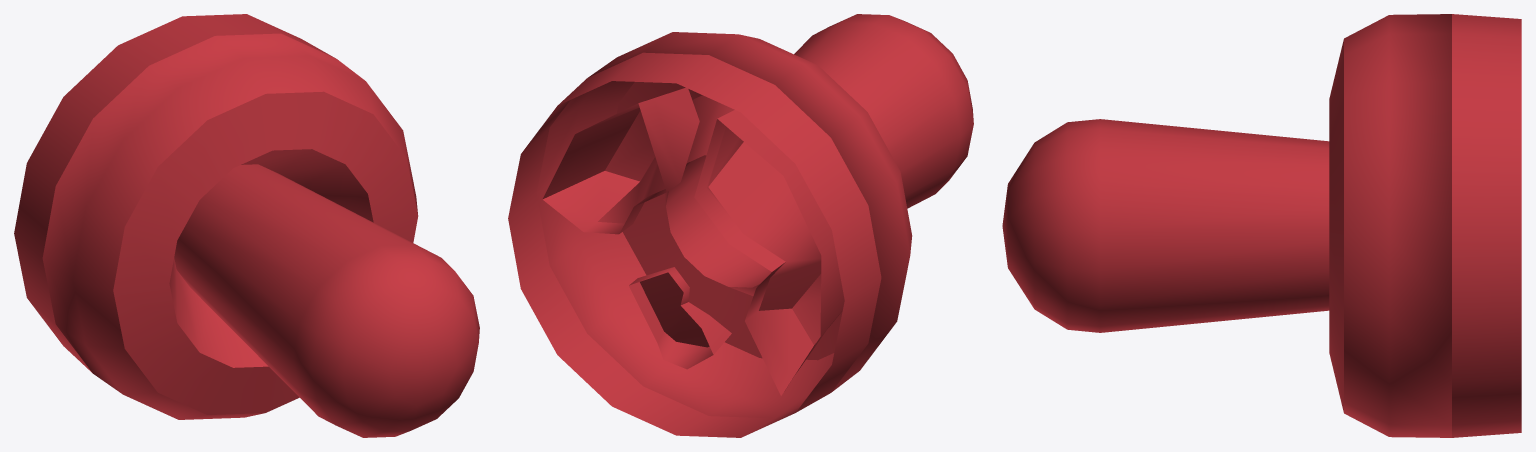
File: airhockey_themed_geo.glb
3 renders of one model, left to right at view 1: azimuth 30°, elevation 25°; view 2: azimuth 150°, elevation 25°; view 3: azimuth 270°, elevation 25°, orthographic. The views are drawn at different scales.
Visible parts, largest first — view 1: striker; view 2: striker, striker_destroyed; view 3: striker.
Part boxes in pixels (x1,y1,x2,y2): striker: (14, 14, 479, 437); striker: (508, 14, 973, 437); striker_destroyed: (542, 87, 844, 395); striker: (1002, 14, 1521, 437).
Bounding box in the file's own units: 1.15 × 1.15 × 1.41.
